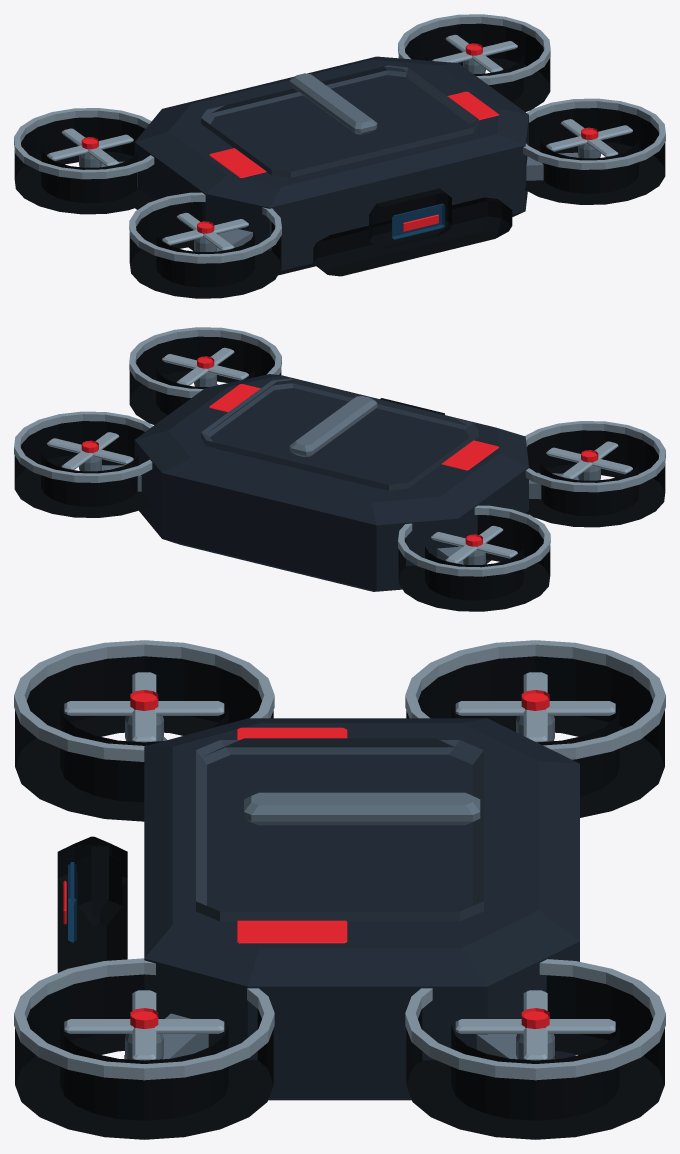
File: SF_GuardDrone.obj
3 renders of one model, top to bottom at view 1: azimuth 30°, elevation 25°; view 2: azimuth 150°, elevation 25°; view 3: azimuth 270°, elevation 25°, orthographic. The views are drawn at different scales.
Parts seen in each view (by area): view 1: Chassis, Duct1, Duct2, Duct0, ForwardBumper, Duct3, ArmourTop, DuctAccent1, DuctAccent2, DuctAccent0, DuctAccent3, FrontSensorHousing (+9 smaller); view 2: Chassis, Duct0, Duct3, Duct2, Duct1, ArmourTop, DuctAccent0, DuctAccent3, DuctAccent2, DuctAccent1, Spine, Rotor3 (+4 smaller); view 3: Chassis, Duct1, Duct3, Duct0, Duct2, ArmourTop, DuctAccent1, Spine, DuctAccent3, DuctAccent0, DuctAccent2, FrontSensorHousing (+8 smaller).
Part boxes in pixels (x1=…): Chassis: x1=134, y1=56, x2=528, y2=275; Duct1: x1=524, y1=108, x2=665, y2=204; Duct2: x1=14, y1=117, x2=153, y2=214; Duct0: x1=129, y1=202, x2=281, y2=298; ForwardBumper: x1=313, y1=197, x2=512, y2=276; Duct3: x1=398, y1=23, x2=550, y2=111; ArmourTop: x1=201, y1=65, x2=478, y2=177; DuctAccent1: x1=523, y1=98, x2=665, y2=169; DuctAccent2: x1=14, y1=108, x2=154, y2=179; DuctAccent0: x1=129, y1=192, x2=281, y2=263; DuctAccent3: x1=398, y1=14, x2=550, y2=84; FrontSensorHousing: x1=369, y1=188, x2=451, y2=250; Chassis: x1=134, y1=374, x2=528, y2=591; Duct0: x1=526, y1=430, x2=665, y2=527; Duct3: x1=14, y1=421, x2=151, y2=517; Duct2: x1=398, y1=515, x2=550, y2=611; Duct1: x1=129, y1=336, x2=281, y2=424; ArmourTop: x1=201, y1=378, x2=478, y2=490; DuctAccent0: x1=525, y1=421, x2=665, y2=492; DuctAccent3: x1=14, y1=411, x2=152, y2=482; DuctAccent2: x1=398, y1=505, x2=550, y2=576; DuctAccent1: x1=129, y1=327, x2=281, y2=397; Spine: x1=289, y1=396, x2=377, y2=457; Rotor3: x1=47, y1=432, x2=133, y2=471; Chassis: x1=144, y1=718, x2=579, y2=1100; Duct1: x1=15, y1=974, x2=273, y2=1139; Duct3: x1=406, y1=975, x2=664, y2=1139; Duct0: x1=15, y1=656, x2=273, y2=821; Duct2: x1=406, y1=656, x2=664, y2=817; ArmourTop: x1=196, y1=738, x2=483, y2=921; DuctAccent1: x1=14, y1=958, x2=274, y2=1080; Spine: x1=244, y1=792, x2=480, y2=825; DuctAccent3: x1=405, y1=959, x2=665, y2=1080; DuctAccent0: x1=14, y1=640, x2=274, y2=761; DuctAccent2: x1=405, y1=640, x2=665, y2=759; FrontSensorHousing: x1=78, y1=846, x2=122, y2=963.
Size of the model in its own units: 2.75 by 0.635 by 1.77.
